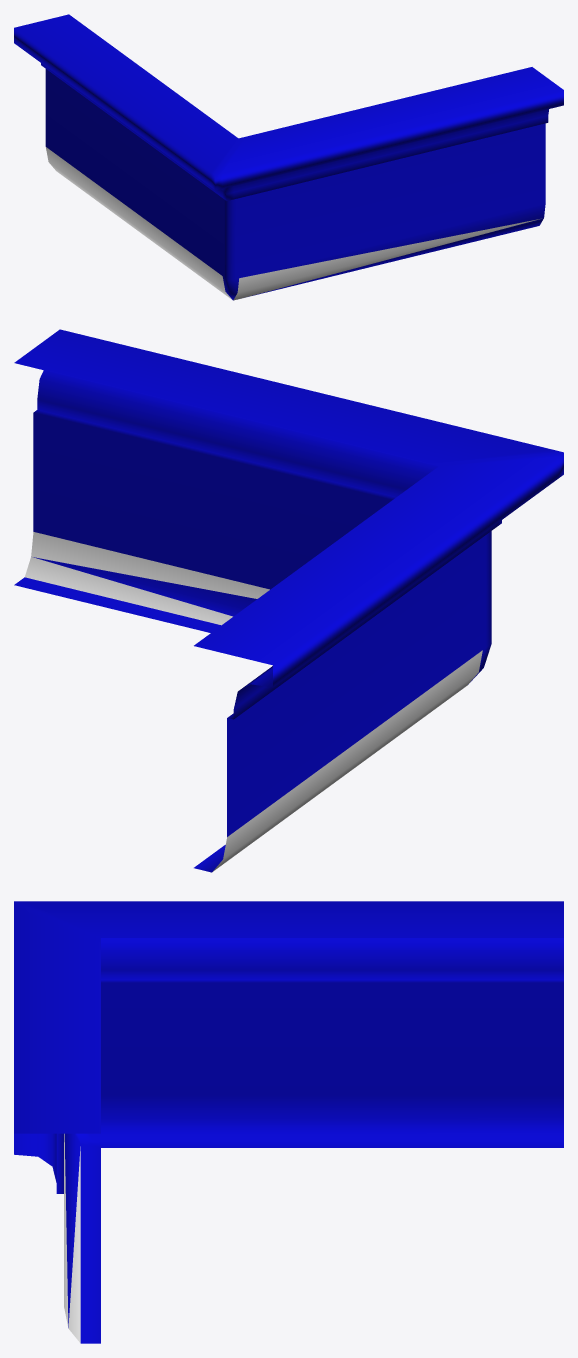
File: SM_FriezeCCorner2m.fbx
3 renders of one model, top to bottom at view 1: azimuth 30°, elevation 25°; view 2: azimuth 150°, elevation 25°; view 3: azimuth 270°, elevation 25°, orthographic. The views are drawn at different scales.
Parts seen in each view (by area): view 1: SM_FriezeCCorner2m; view 2: SM_FriezeCCorner2m; view 3: SM_FriezeCCorner2m.
Boxes of the visible parts, left/top/right/bottom form: SM_FriezeCCorner2m: left=14, top=14, right=563, bottom=300; SM_FriezeCCorner2m: left=14, top=329, right=563, bottom=872; SM_FriezeCCorner2m: left=14, top=901, right=563, bottom=1343.
Bounding box in the file's own units: 238 × 100 × 238.
